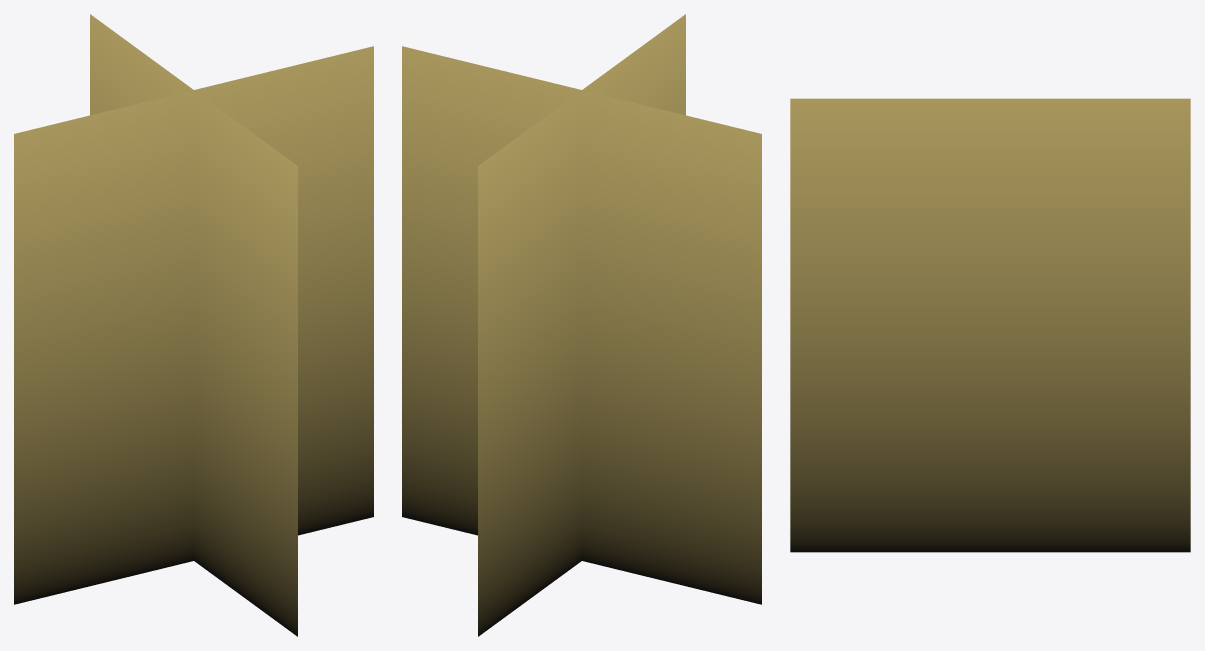
File: grass_cross_2card_v5.glb
The picture shows the model from 3 angles, left to right: view 1: azimuth 30°, elevation 25°; view 2: azimuth 150°, elevation 25°; view 3: azimuth 270°, elevation 25°; orthographic projection. The views are drawn at different scales.
Visible parts, largest first — view 1: Grass_Cross_2Card; view 2: Grass_Cross_2Card; view 3: Grass_Cross_2Card.
Boxes of the visible parts, x1,y1,x2,y2 form: Grass_Cross_2Card: (14,14,373,636); Grass_Cross_2Card: (402,14,761,636); Grass_Cross_2Card: (790,98,1190,552).
Size of the model in its own units: 0.92 by 1.15 by 0.92.
1 material, 1 textured.
